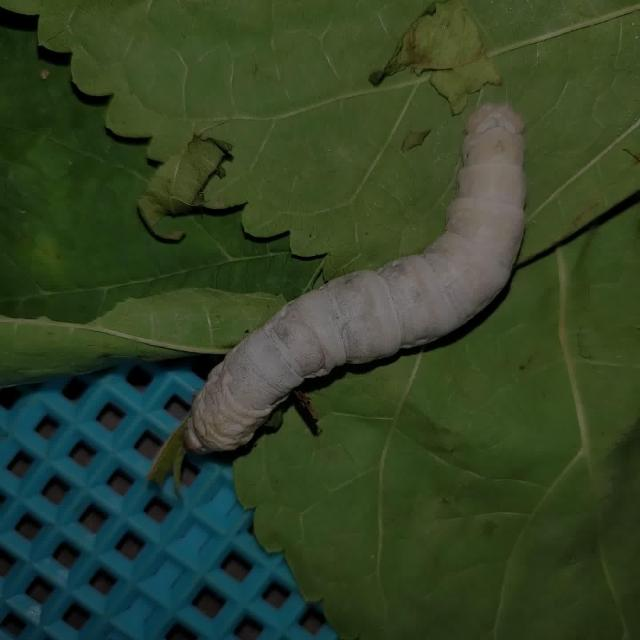Grasserie: (158, 74, 556, 548)
